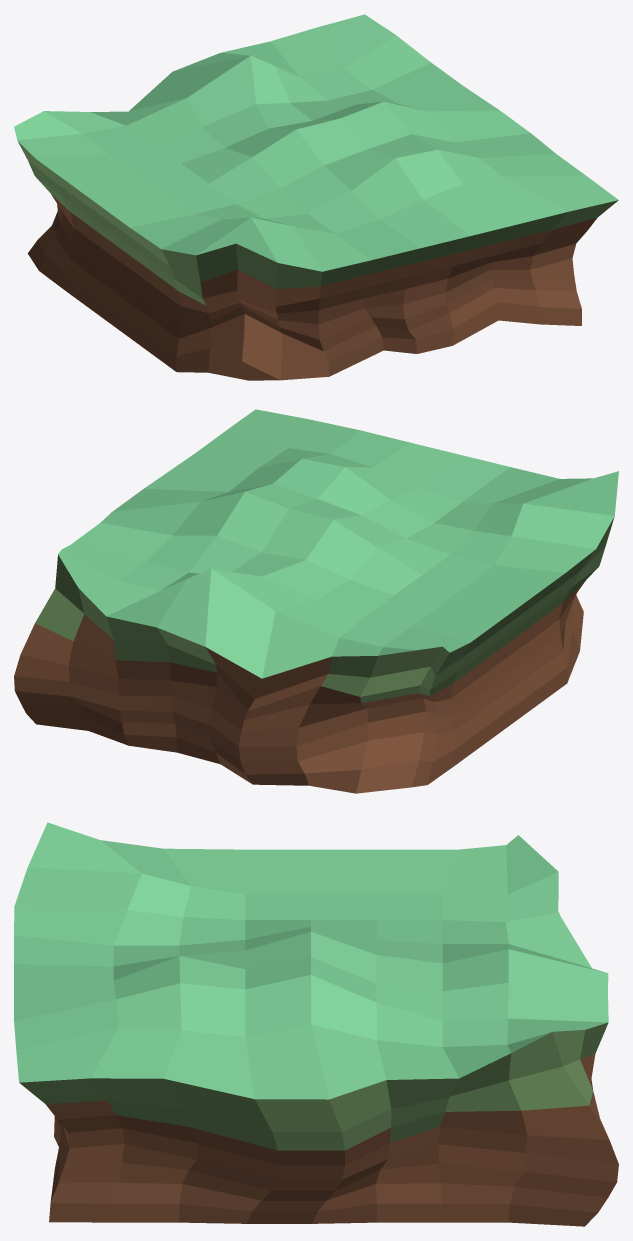
The model's file is Island.fbx.
The picture shows the model from 3 angles, top to bottom: view 1: azimuth 30°, elevation 25°; view 2: azimuth 150°, elevation 25°; view 3: azimuth 270°, elevation 25°; orthographic projection. The views are drawn at different scales.
Parts seen in each view (by area): view 1: Cube; view 2: Cube; view 3: Cube.
Boxes of the visible parts, left/top/right/bottom form: Cube: left=14, top=14, right=618, bottom=380; Cube: left=14, top=409, right=618, bottom=793; Cube: left=14, top=822, right=618, bottom=1226.
Size of the model in its own units: 1127 by 467 by 1216.
